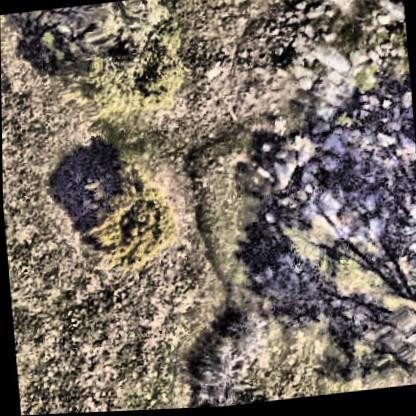tree-top: (30, 0, 205, 130), (68, 166, 183, 283), (173, 308, 289, 410)
